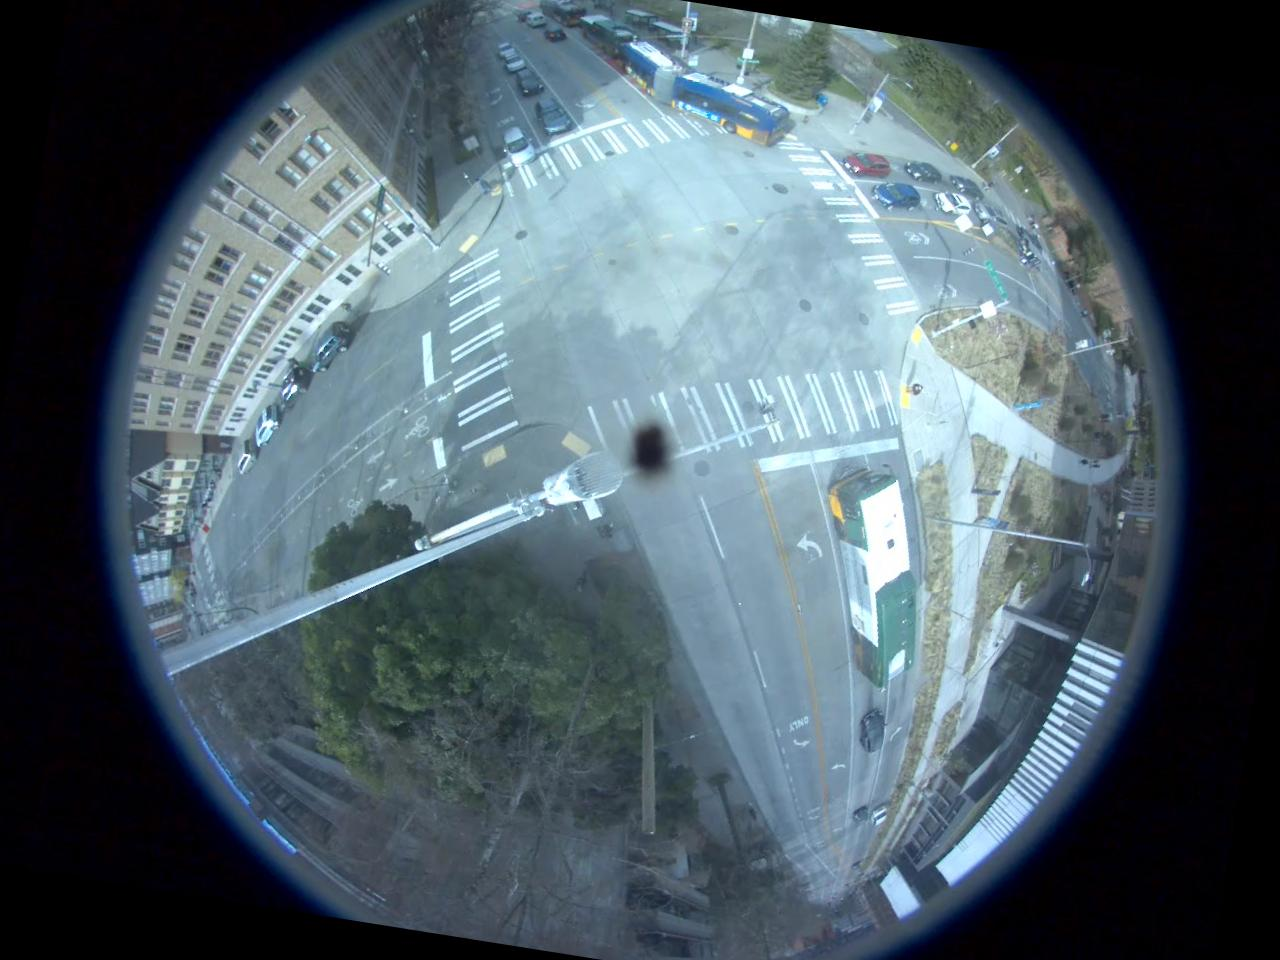bus: (798, 466, 942, 684), (616, 40, 799, 150), (576, 11, 639, 60), (537, 0, 586, 25)
car: (842, 146, 897, 184), (869, 178, 924, 214), (316, 320, 350, 376), (277, 362, 312, 412), (970, 198, 1016, 235), (534, 94, 574, 136), (500, 126, 537, 168), (926, 186, 976, 217), (900, 156, 944, 184), (858, 710, 886, 753), (253, 406, 280, 448), (515, 68, 547, 103), (952, 174, 987, 200), (540, 18, 572, 46), (238, 443, 260, 479), (501, 50, 527, 79)
person: (474, 174, 496, 198), (901, 379, 928, 398)
